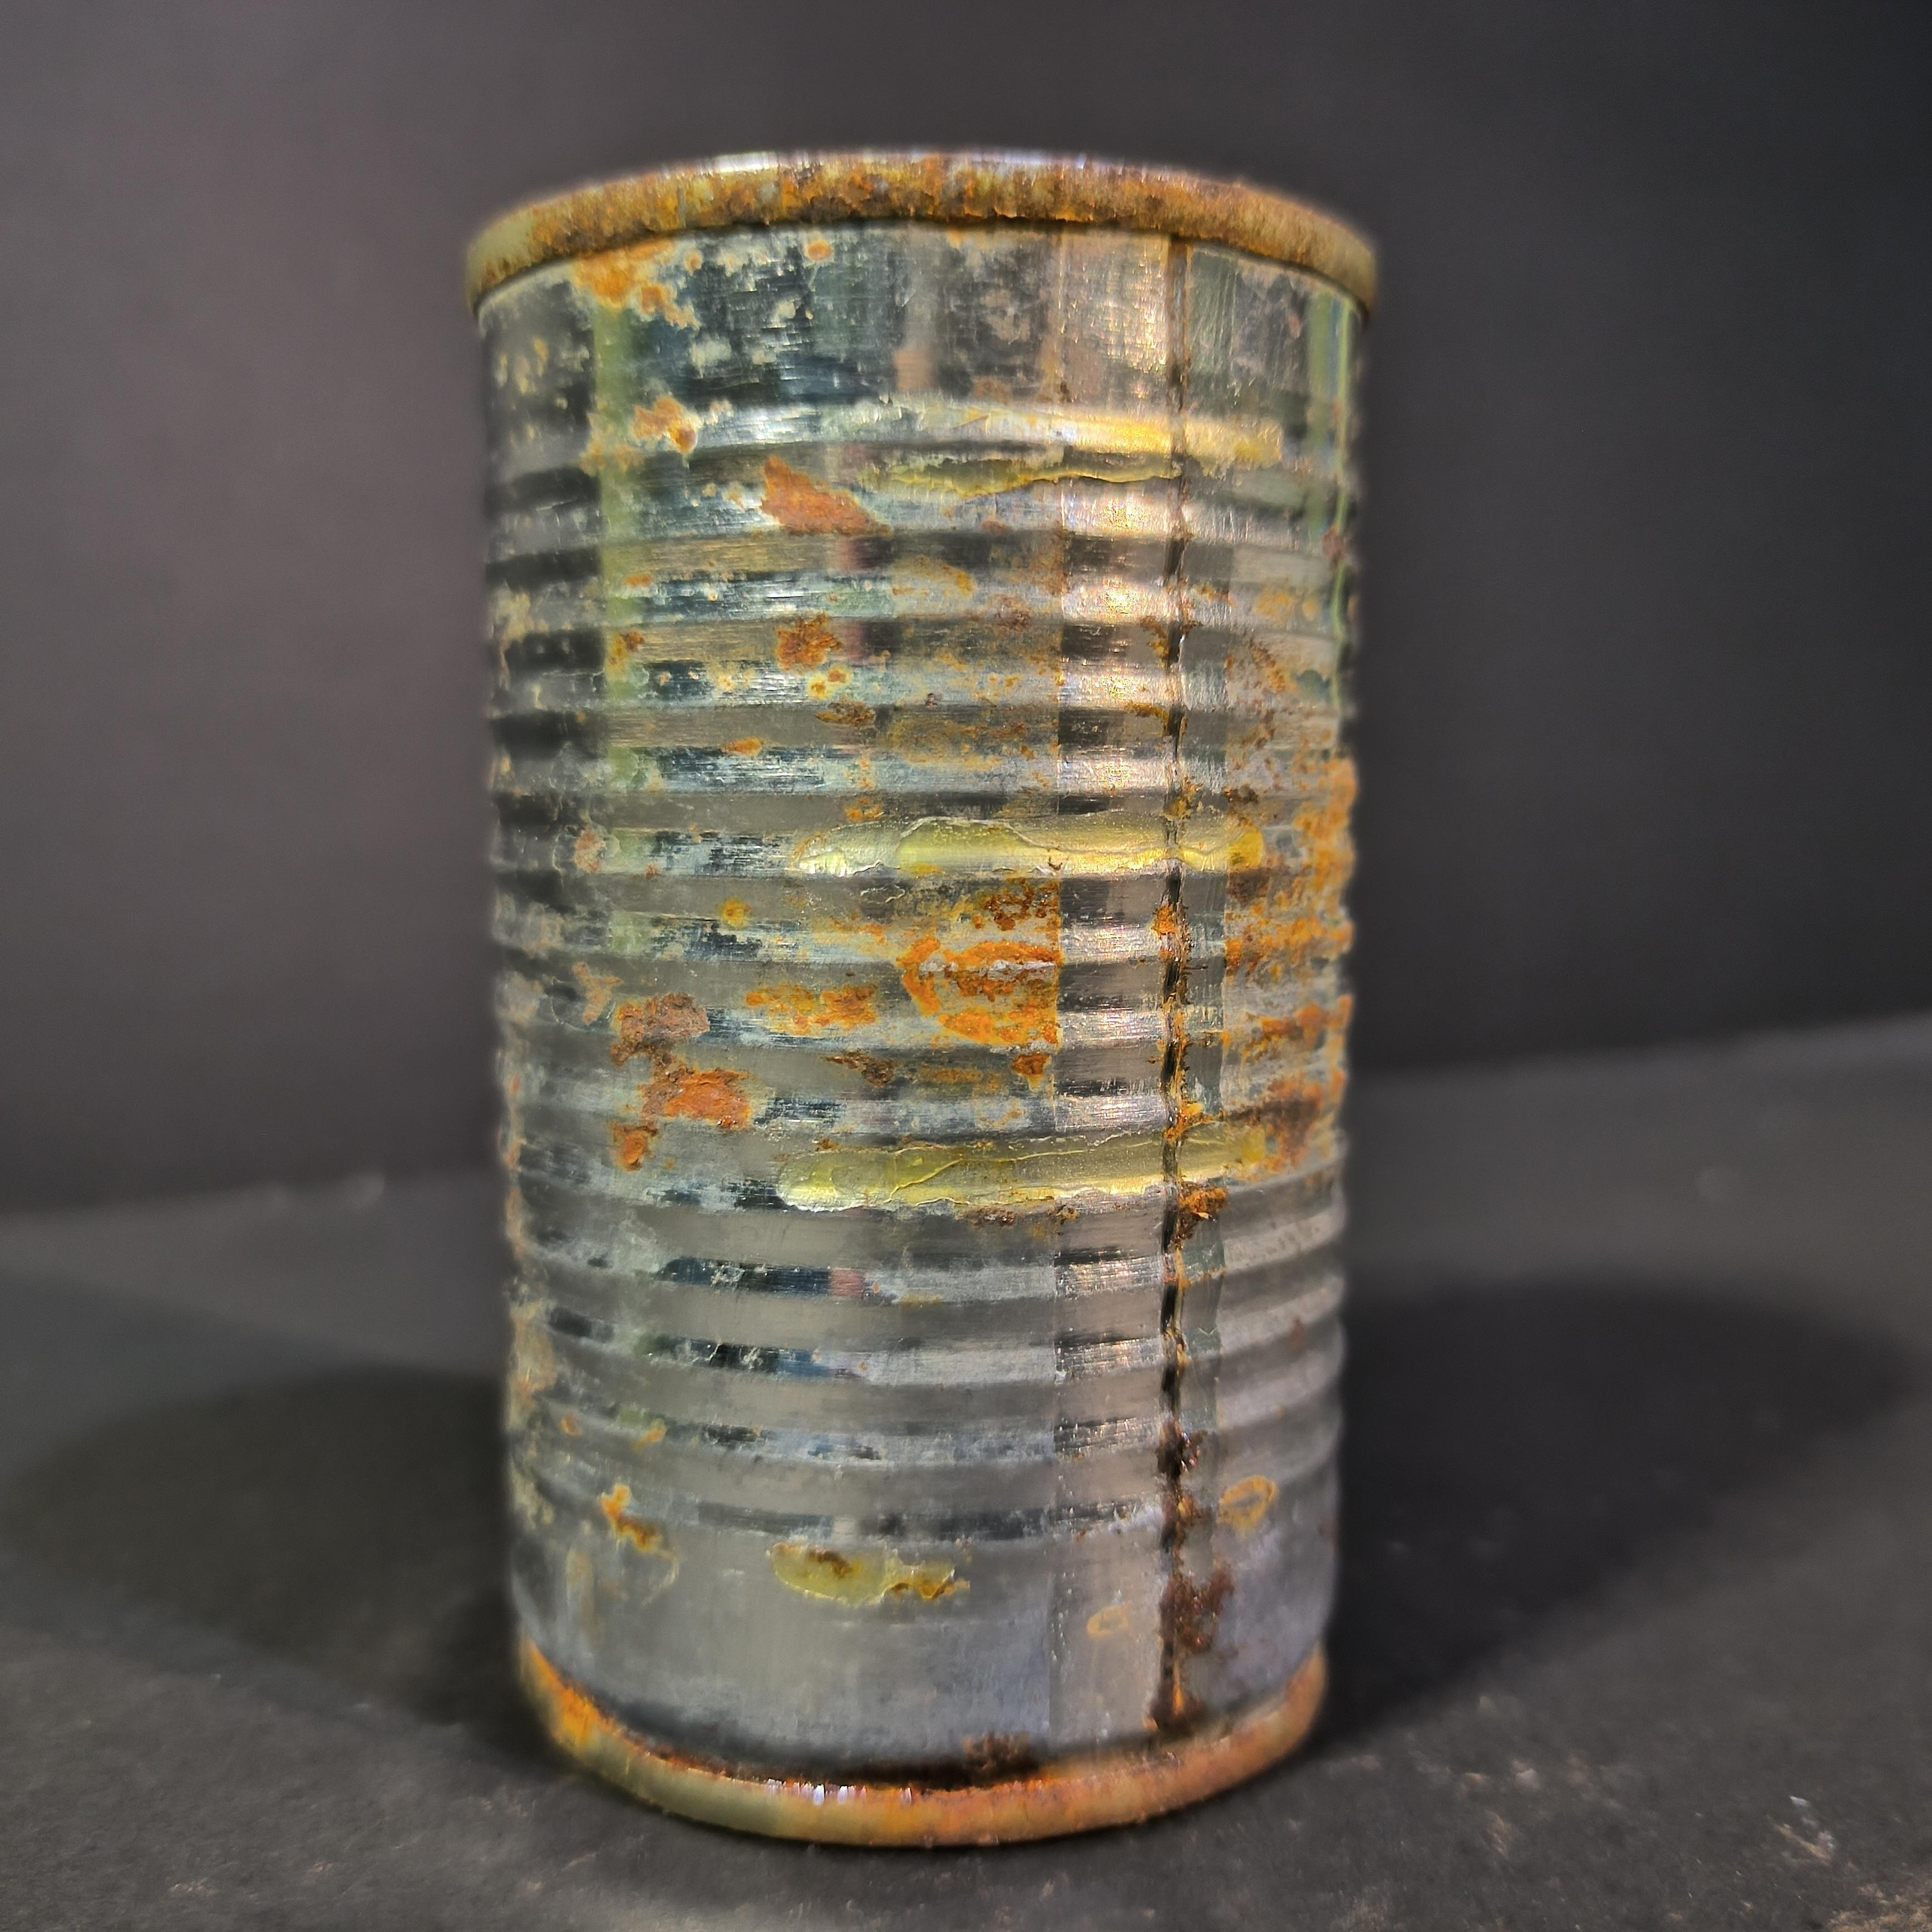Rusted: (433, 103, 1385, 1842)
